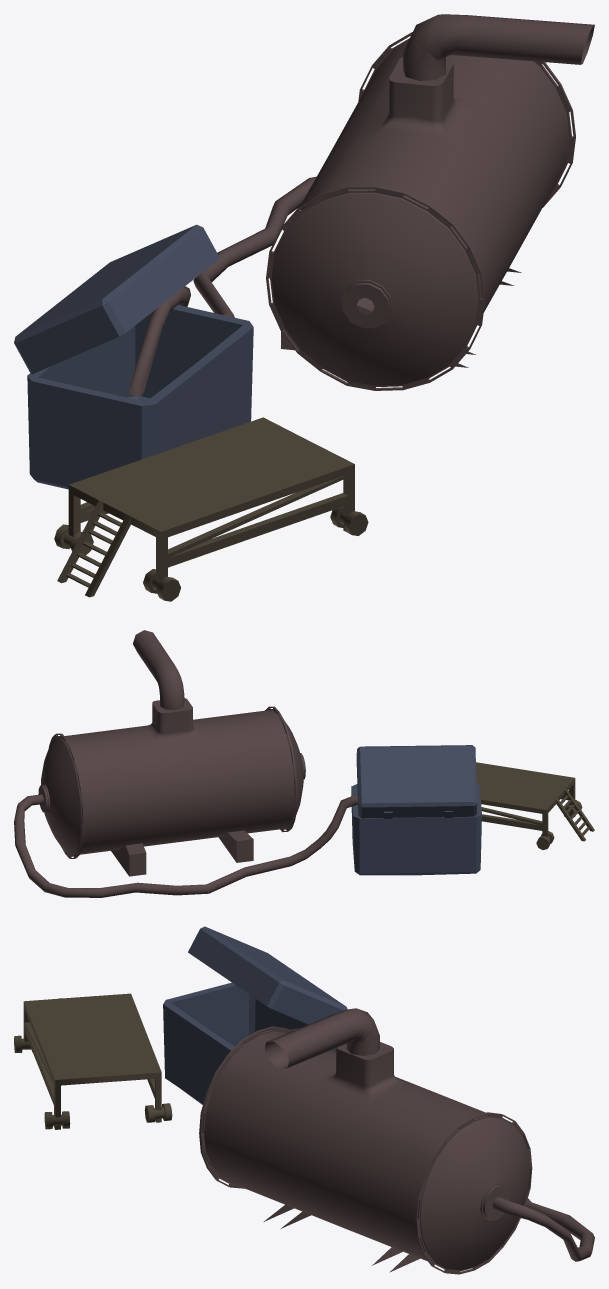
Rendered from Barrel, Cart, Box.fbx.
The picture shows the model from 3 angles, top to bottom: view 1: azimuth 30°, elevation 25°; view 2: azimuth 150°, elevation 25°; view 3: azimuth 270°, elevation 25°; orthographic projection. The views are drawn at different scales.
Parts seen in each view (by area): view 1: Barrel_of_fuel, Big_box, Cart; view 2: Barrel_of_fuel, Big_box, Cart; view 3: Barrel_of_fuel, Big_box, Cart.
Part boxes in pixels (x1,y1,x2,y2): Barrel_of_fuel: [128, 14, 594, 396]; Big_box: [14, 224, 253, 489]; Cart: [54, 417, 368, 601]; Barrel_of_fuel: [14, 630, 357, 897]; Big_box: [351, 745, 481, 875]; Cart: [476, 762, 594, 849]; Barrel_of_fuel: [199, 1008, 594, 1274]; Big_box: [163, 926, 347, 1104]; Cart: [14, 993, 172, 1129].
Bounding box in the file's own units: 1821 × 720 × 1654.
